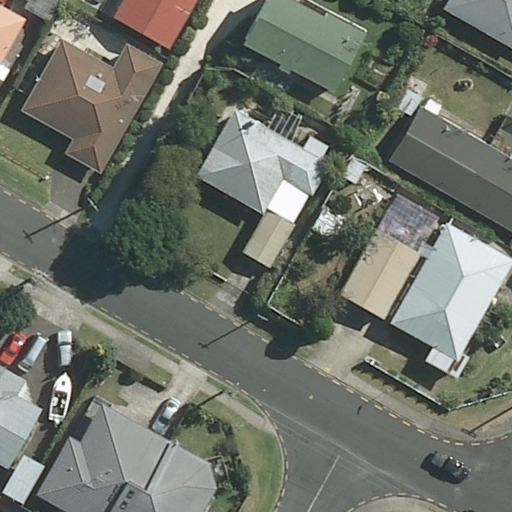DT: (86, 198, 103, 217), (381, 383, 398, 400), (255, 313, 275, 326)
